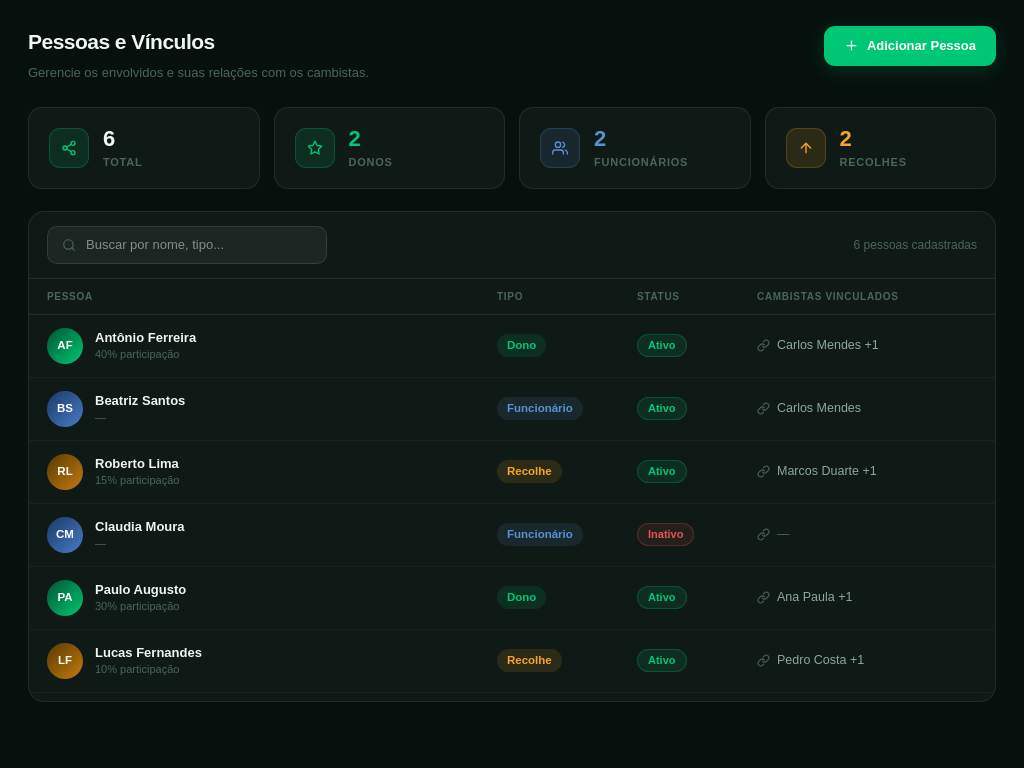
Scenario: PessoasPage › abre o drawer de visualização ao clicar em uma pessoa
Click the text "Antônio Ferreira" at (146, 338), box top-left (95, 330), bottom-right (196, 347)
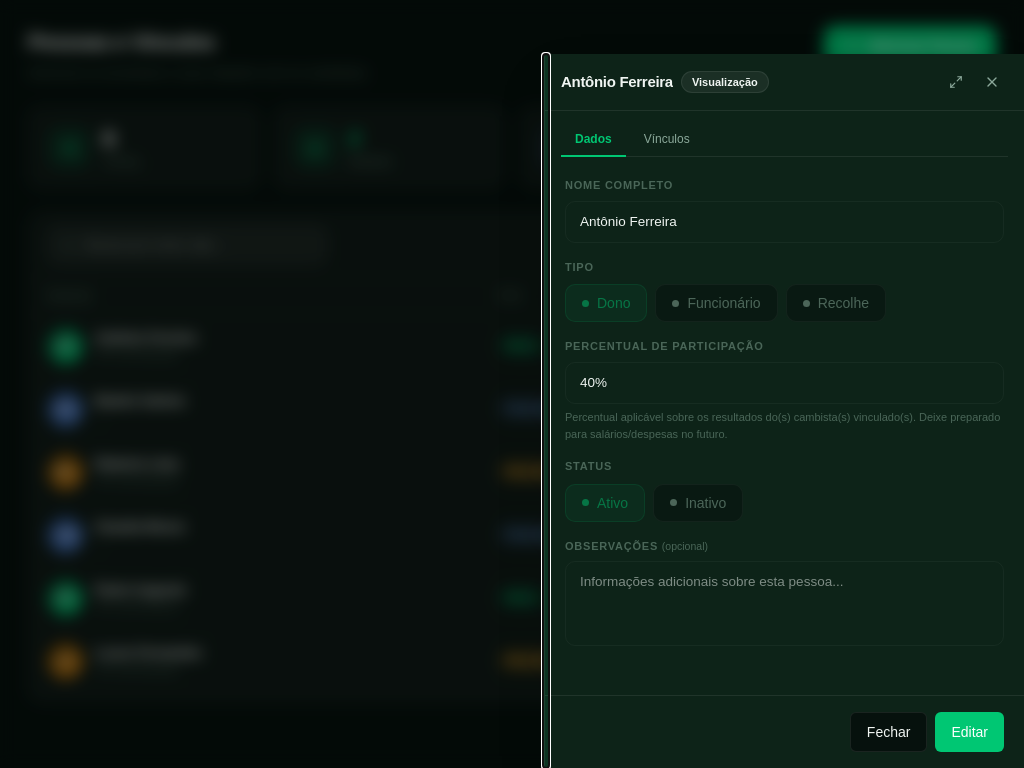
Expected: the text "Visualização" is shown, top-left (681, 71), bottom-right (769, 93)
